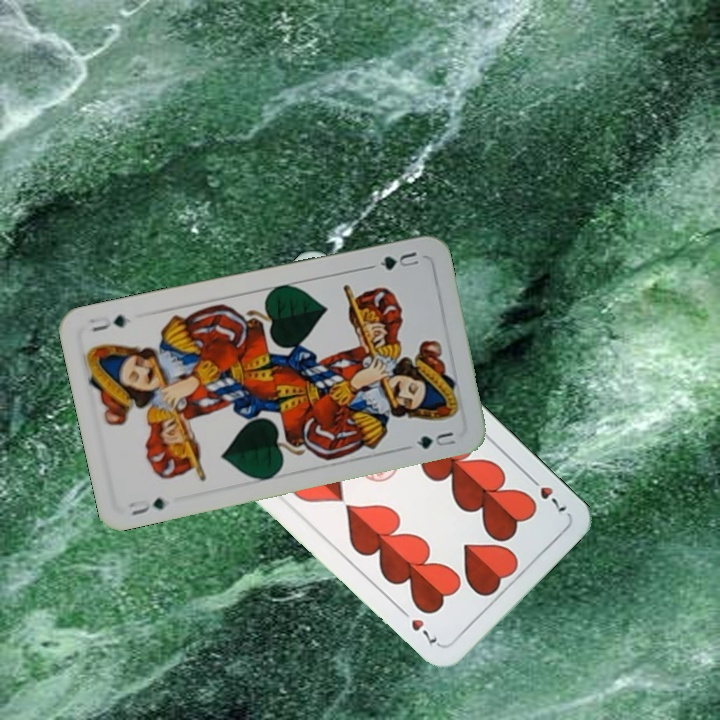GU: (376, 247, 422, 273), (125, 493, 167, 518)
H7: (523, 470, 570, 515)
